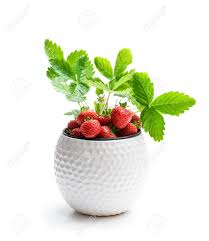Fresa: (110, 105, 133, 130), (80, 118, 102, 138), (76, 110, 102, 126)
